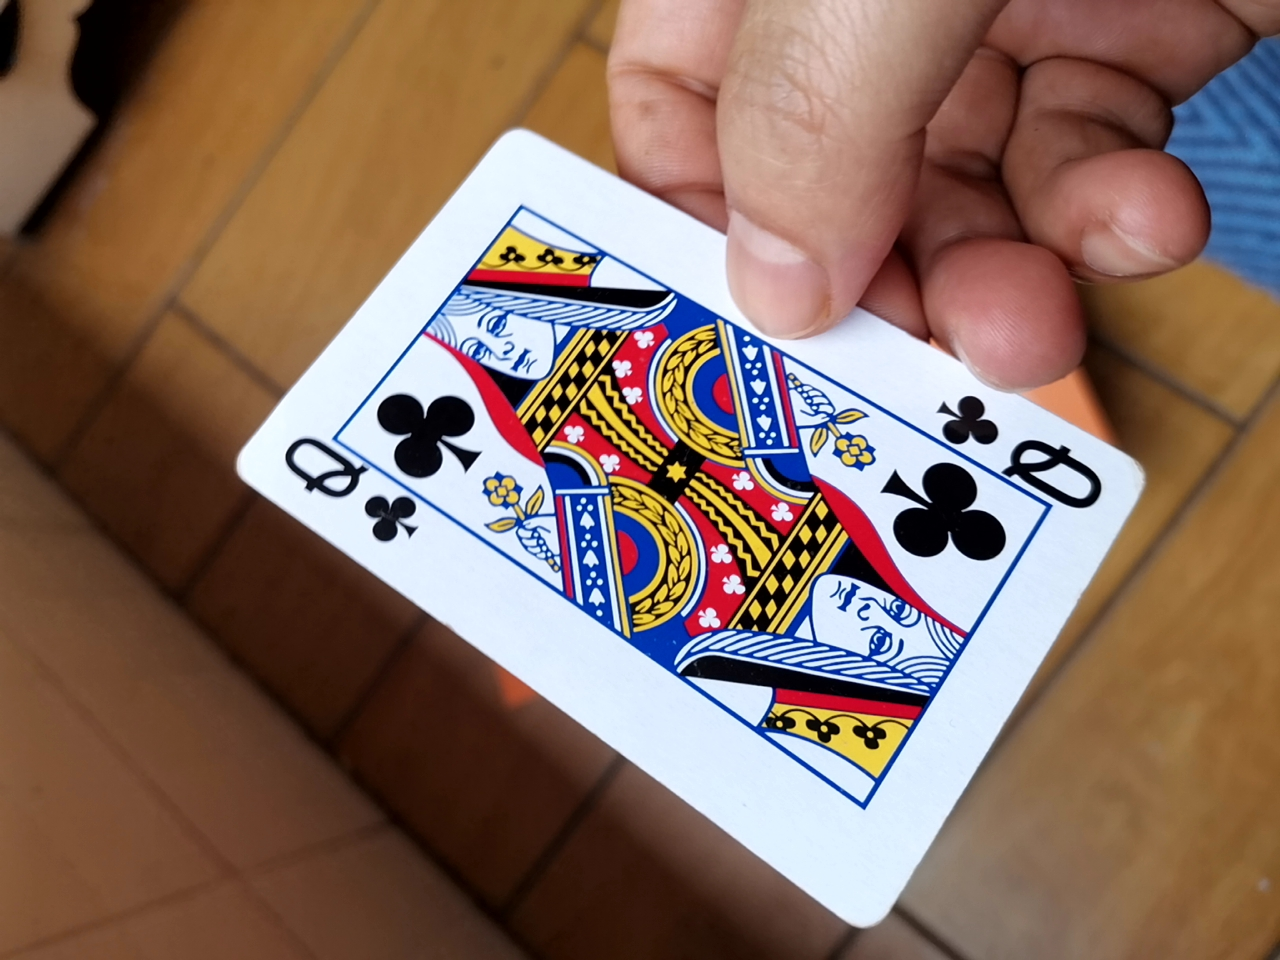mh q: (238, 110, 1134, 945)
